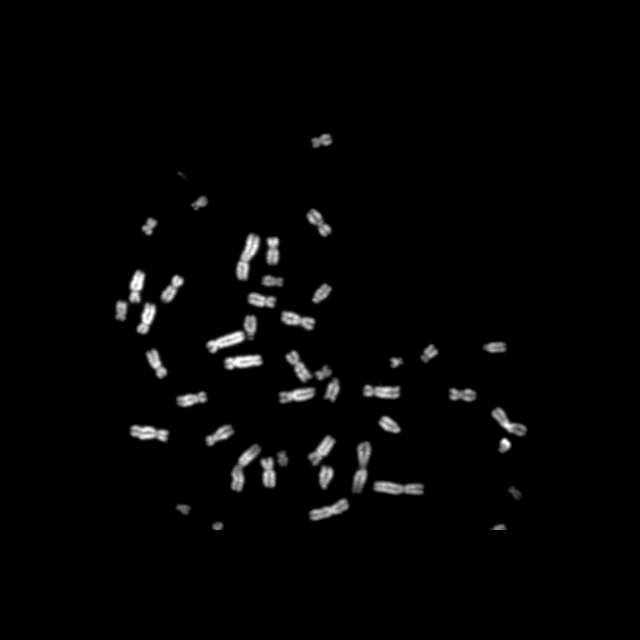chromosome: (231, 443, 261, 492), (236, 233, 260, 281), (491, 407, 527, 437), (351, 441, 371, 495), (206, 331, 247, 354), (308, 498, 349, 520), (307, 434, 335, 466), (285, 350, 311, 382), (374, 480, 424, 496), (280, 310, 314, 332), (307, 208, 331, 238), (136, 302, 158, 334), (131, 425, 169, 443), (222, 354, 264, 370), (161, 274, 183, 304), (206, 424, 234, 446), (278, 387, 316, 403), (146, 348, 166, 378), (128, 271, 146, 303), (364, 384, 400, 400), (176, 390, 208, 408), (246, 292, 276, 310), (265, 236, 281, 268), (260, 457, 276, 489), (379, 414, 401, 434), (310, 131, 332, 151), (324, 377, 340, 403), (318, 464, 334, 490), (312, 284, 332, 304), (448, 388, 476, 402), (419, 343, 438, 362), (245, 314, 258, 340), (482, 341, 508, 354), (140, 218, 156, 236), (114, 301, 128, 321), (276, 450, 290, 468), (508, 484, 522, 502), (192, 196, 206, 212), (315, 366, 331, 380), (498, 438, 512, 454), (262, 276, 284, 286), (390, 356, 404, 370)
